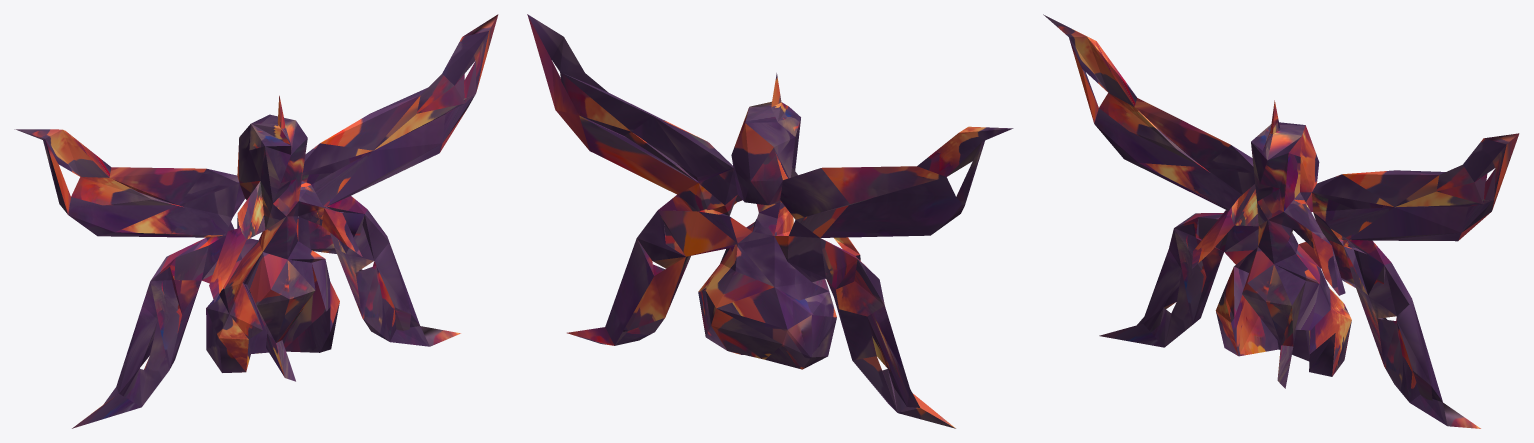
3 views of the same model, side by side, from view 1: azimuth 30°, elevation 25°; view 2: azimuth 150°, elevation 25°; view 3: azimuth 330°, elevation 25° (orthographic).
Visible parts, largest first — view 1: unknown; view 2: unknown; view 3: unknown.
Part boxes in pixels (x1=…): unknown: x1=14, y1=14, x2=498, y2=428; unknown: x1=527, y1=14, x2=1013, y2=428; unknown: x1=1043, y1=14, x2=1519, y2=428.
Size of the model in its own units: 1.2 by 0.7491 by 0.1754.
